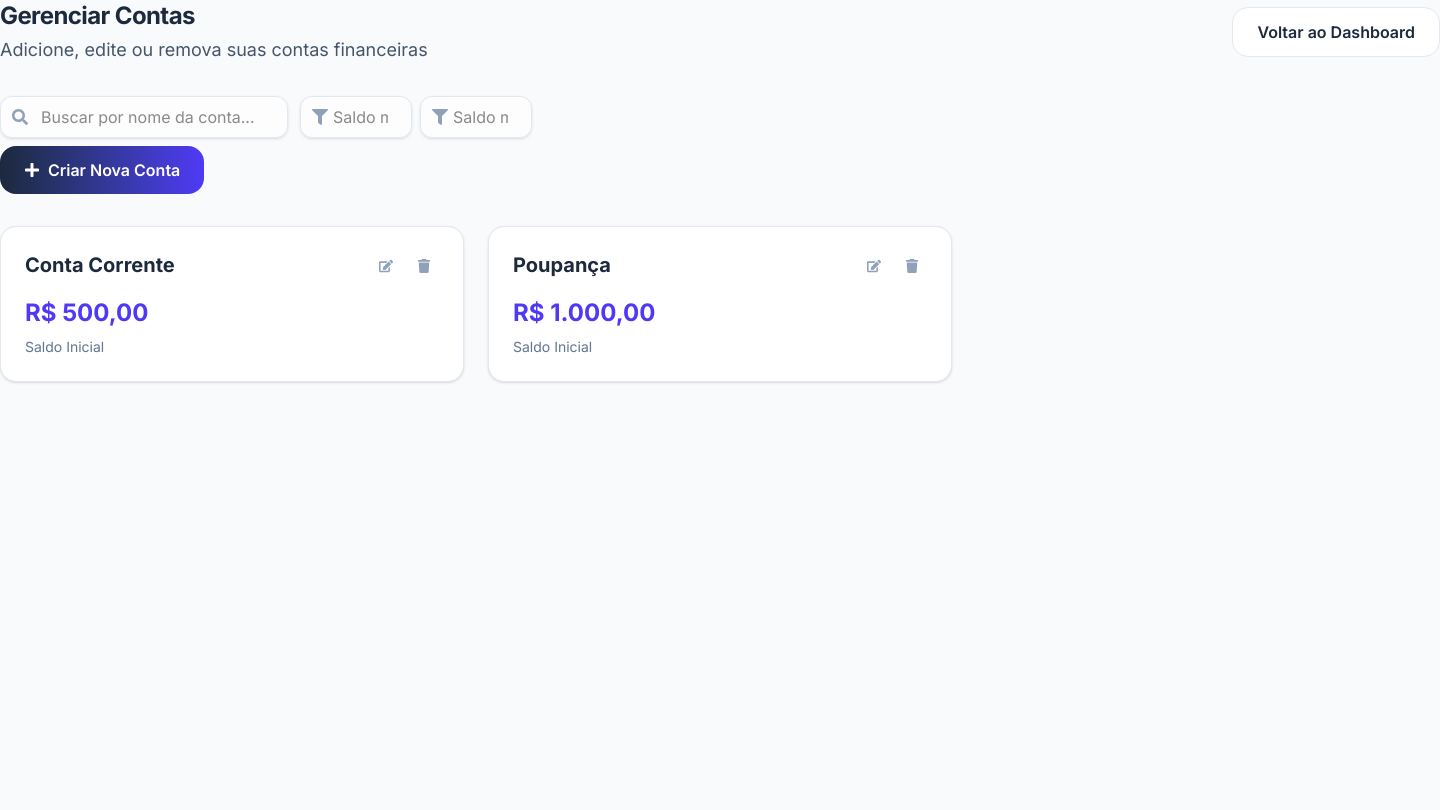
Test case: renderiza página de contas, exibe contas e abre modal de adicionar conta
Expected: the heading "Conta Corrente" is shown, [25,251,175,279]
Expected: the heading "Poupança" is shown, [513,251,611,279]
Abre o modal de adicionar conta
Click the button "Criar Nova Conta".
click(102, 170)  # box [0,146,204,194]
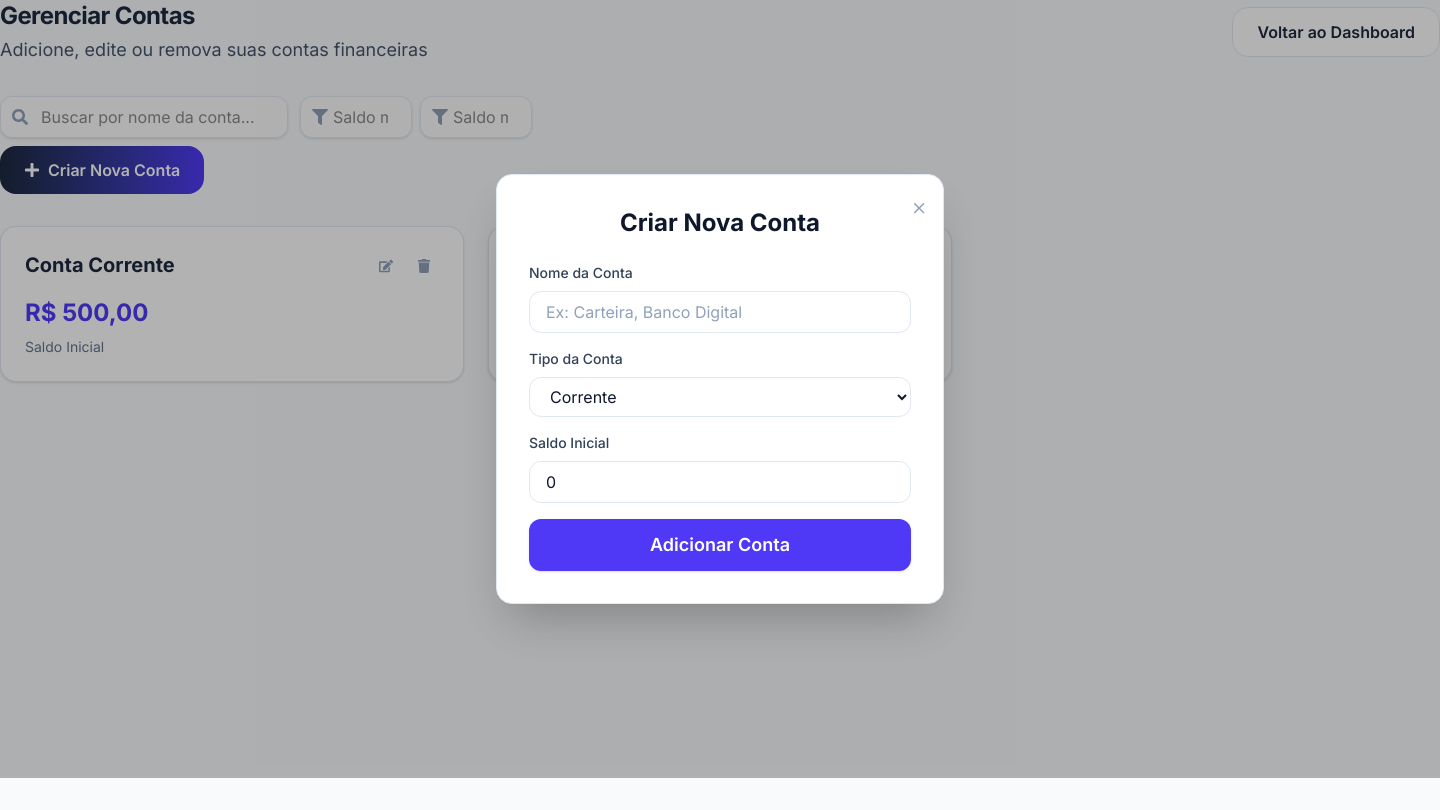
Now the heading "Criar Nova Conta" is shown, box [620,208,820,237]
